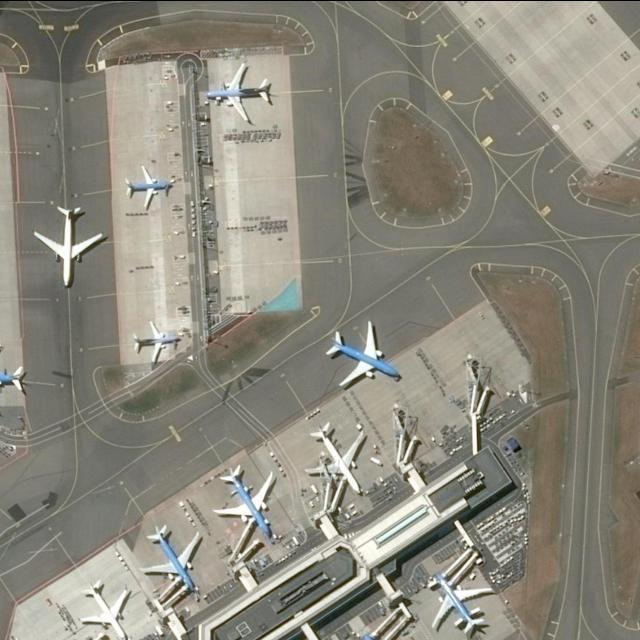Aircraft: (35, 203, 106, 289), (326, 320, 400, 386), (213, 464, 275, 539), (305, 423, 367, 497), (205, 62, 273, 124), (143, 523, 201, 593), (432, 573, 496, 633), (81, 577, 130, 640), (132, 317, 185, 365), (126, 165, 173, 211), (0, 339, 27, 416)
